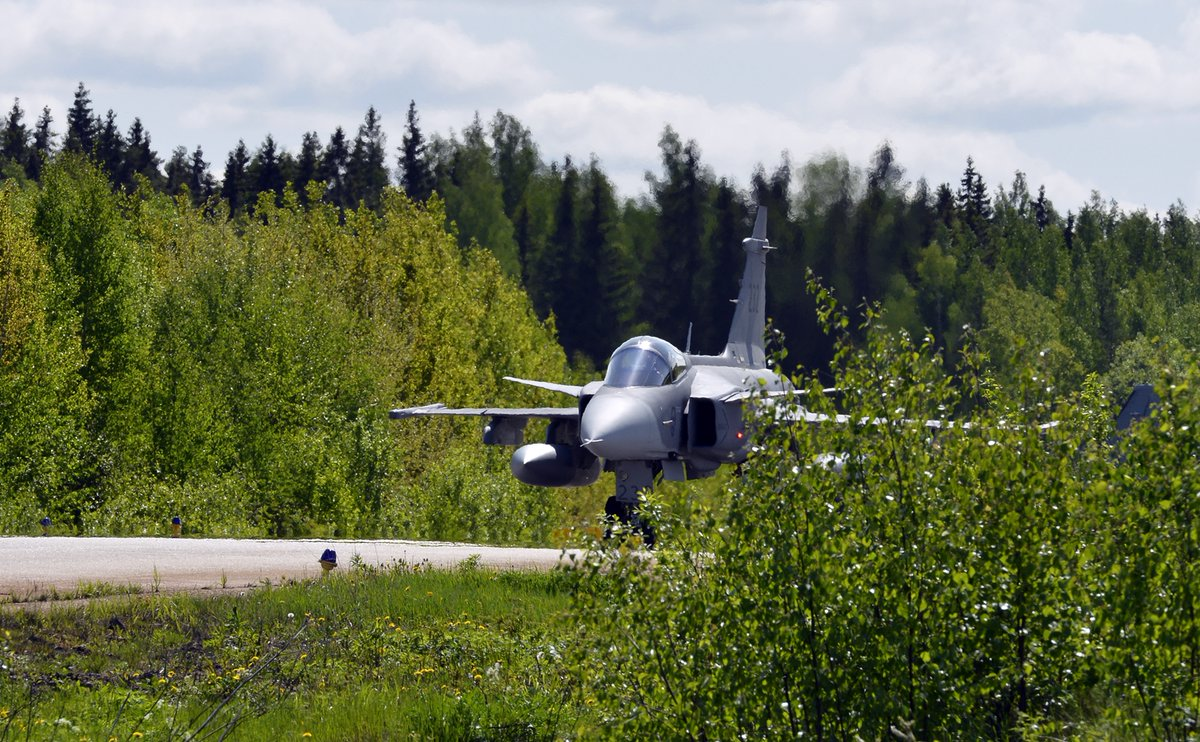JAS39: (387, 205, 1065, 550)
